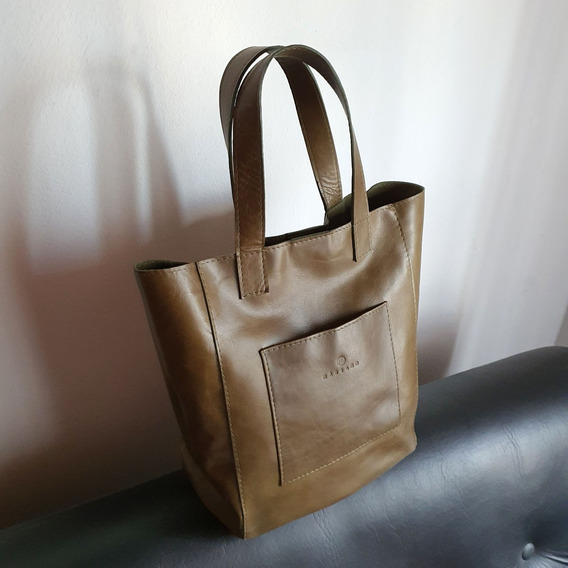cartera: (129, 42, 428, 542)
